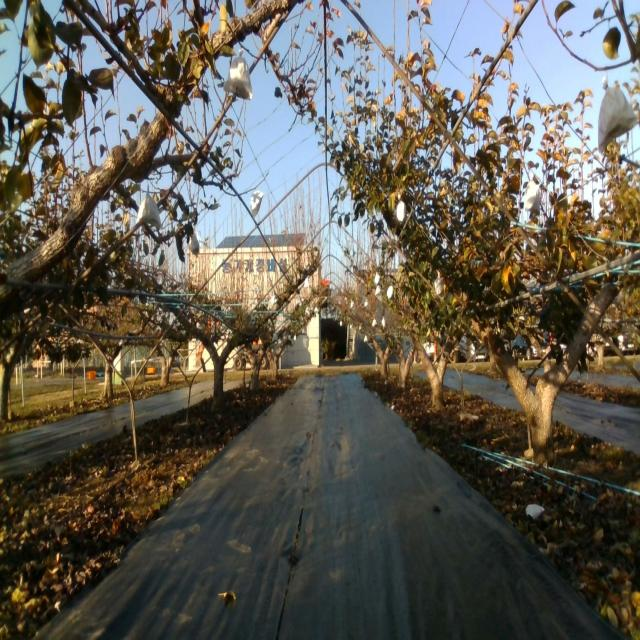pearbags: (598, 84, 640, 154), (225, 54, 254, 108), (135, 193, 161, 230), (523, 180, 541, 213), (250, 190, 264, 220), (188, 231, 201, 261), (395, 200, 407, 227)
